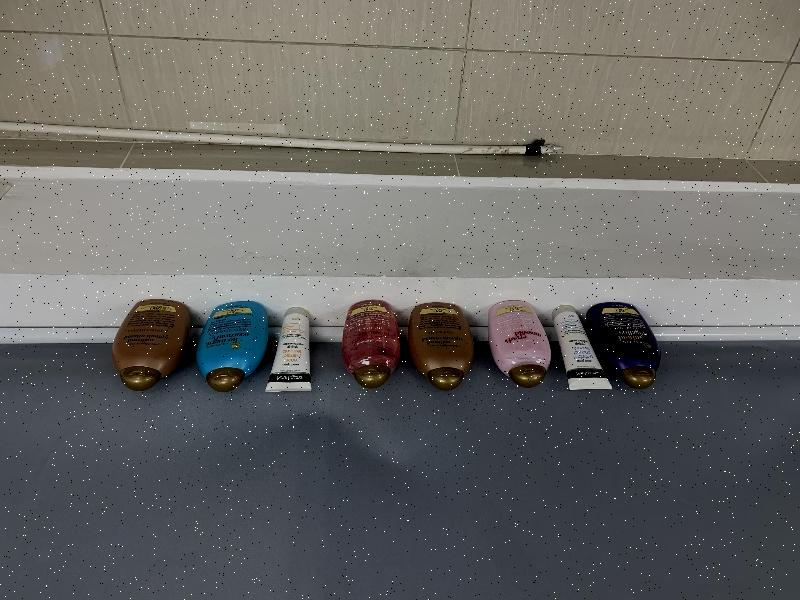AcneFoamingCleanser: (268, 307, 312, 393)
ArganOilOfMorocco_Conditioner: (196, 301, 268, 392)
BiotinCollagen_Shampoo: (601, 302, 662, 390)
BrazilianKeratinTherapy_Shampoo: (409, 302, 474, 391)
BrazilianKerationTherapy_Conditioner: (112, 299, 191, 391)
CherryBlossom_Conditioner: (488, 300, 551, 388)
CherryBlossom_Shampoo: (342, 299, 400, 389)
HydratingFoamingCleanser: (552, 305, 601, 390)
